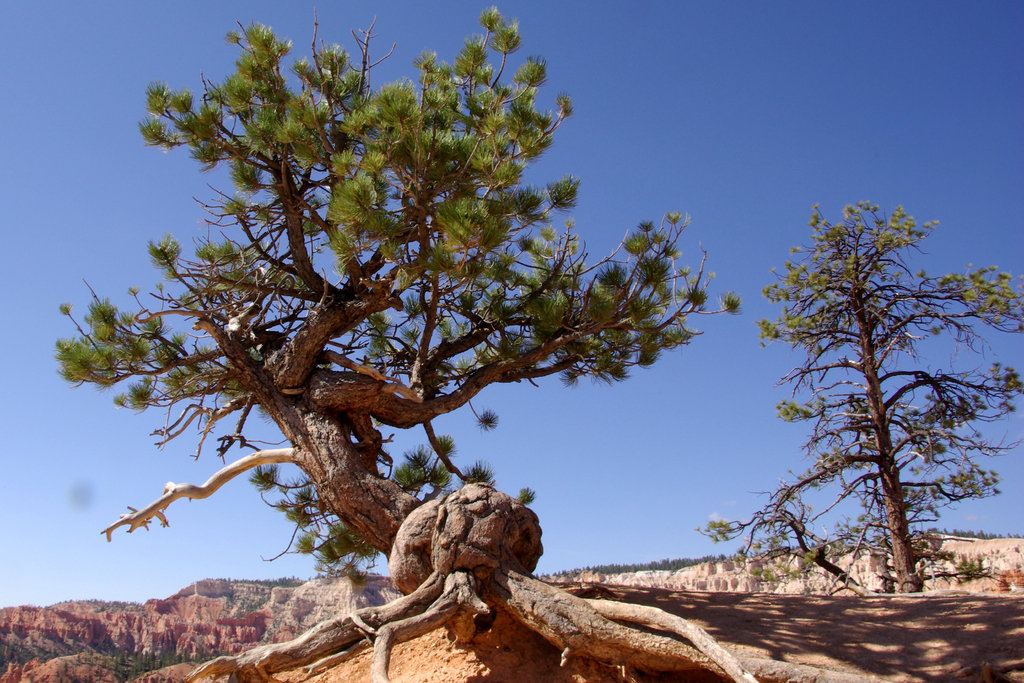Tree: (51, 2, 885, 683), (692, 199, 1023, 597)
